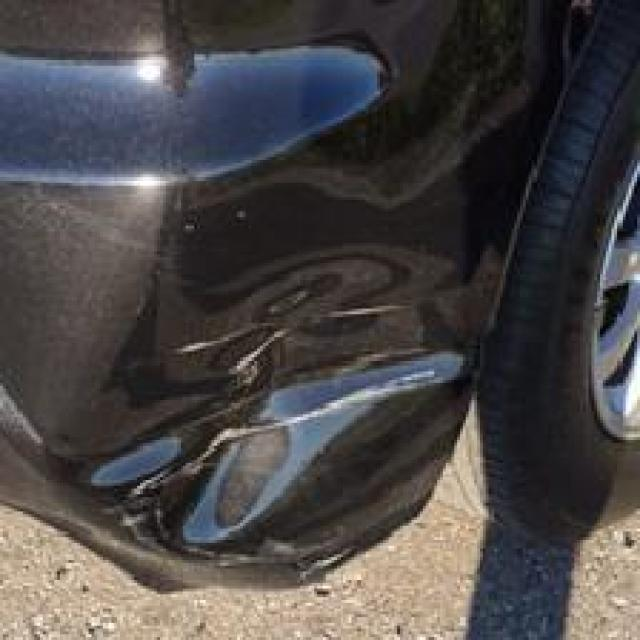damaged: (80, 177, 477, 574)
